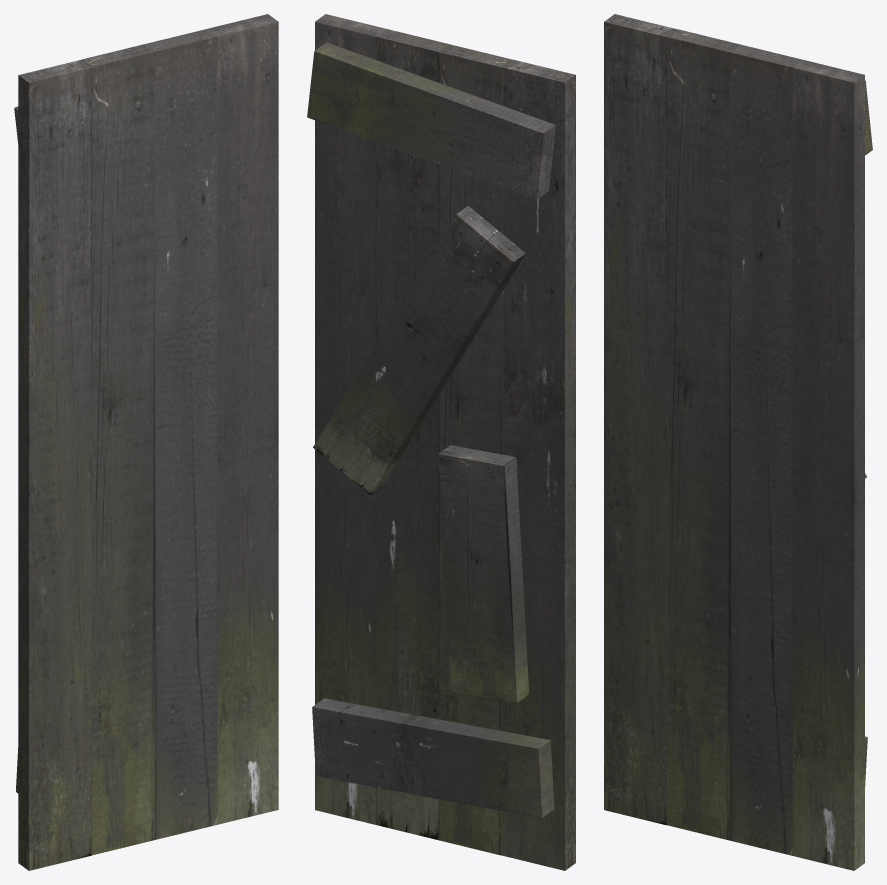
Rendered from RottenSmallWoodenWall 1m.fbx.
The picture shows the model from 3 angles, left to right: view 1: azimuth 30°, elevation 25°; view 2: azimuth 150°, elevation 25°; view 3: azimuth 330°, elevation 25°; orthographic projection.
Visible parts, largest first — view 1: RottenSmallWoodenWall_1m; view 2: RottenSmallWoodenWall_1m; view 3: RottenSmallWoodenWall_1m.
Boxes of the visible parts, <box> form: RottenSmallWoodenWall_1m: <box>14,14,278,870</box>; RottenSmallWoodenWall_1m: <box>307,14,575,870</box>; RottenSmallWoodenWall_1m: <box>604,14,872,870</box>.
Bounding box in the file's own units: 1 × 3.01 × 0.1625.
